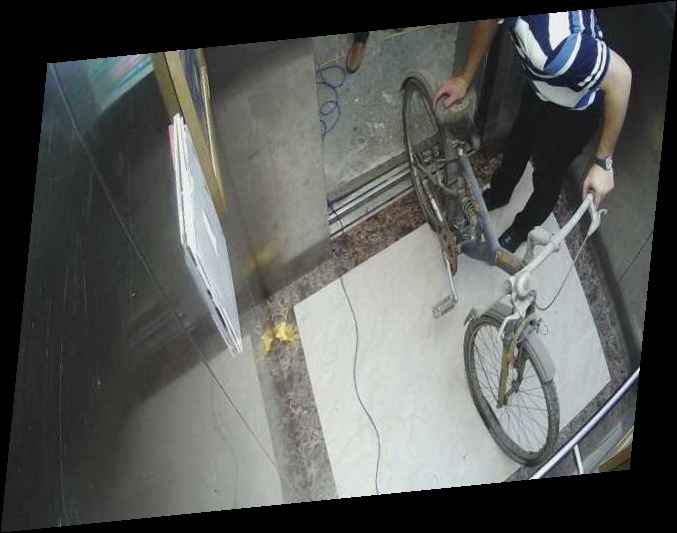bicycle: (392, 63, 575, 467)
